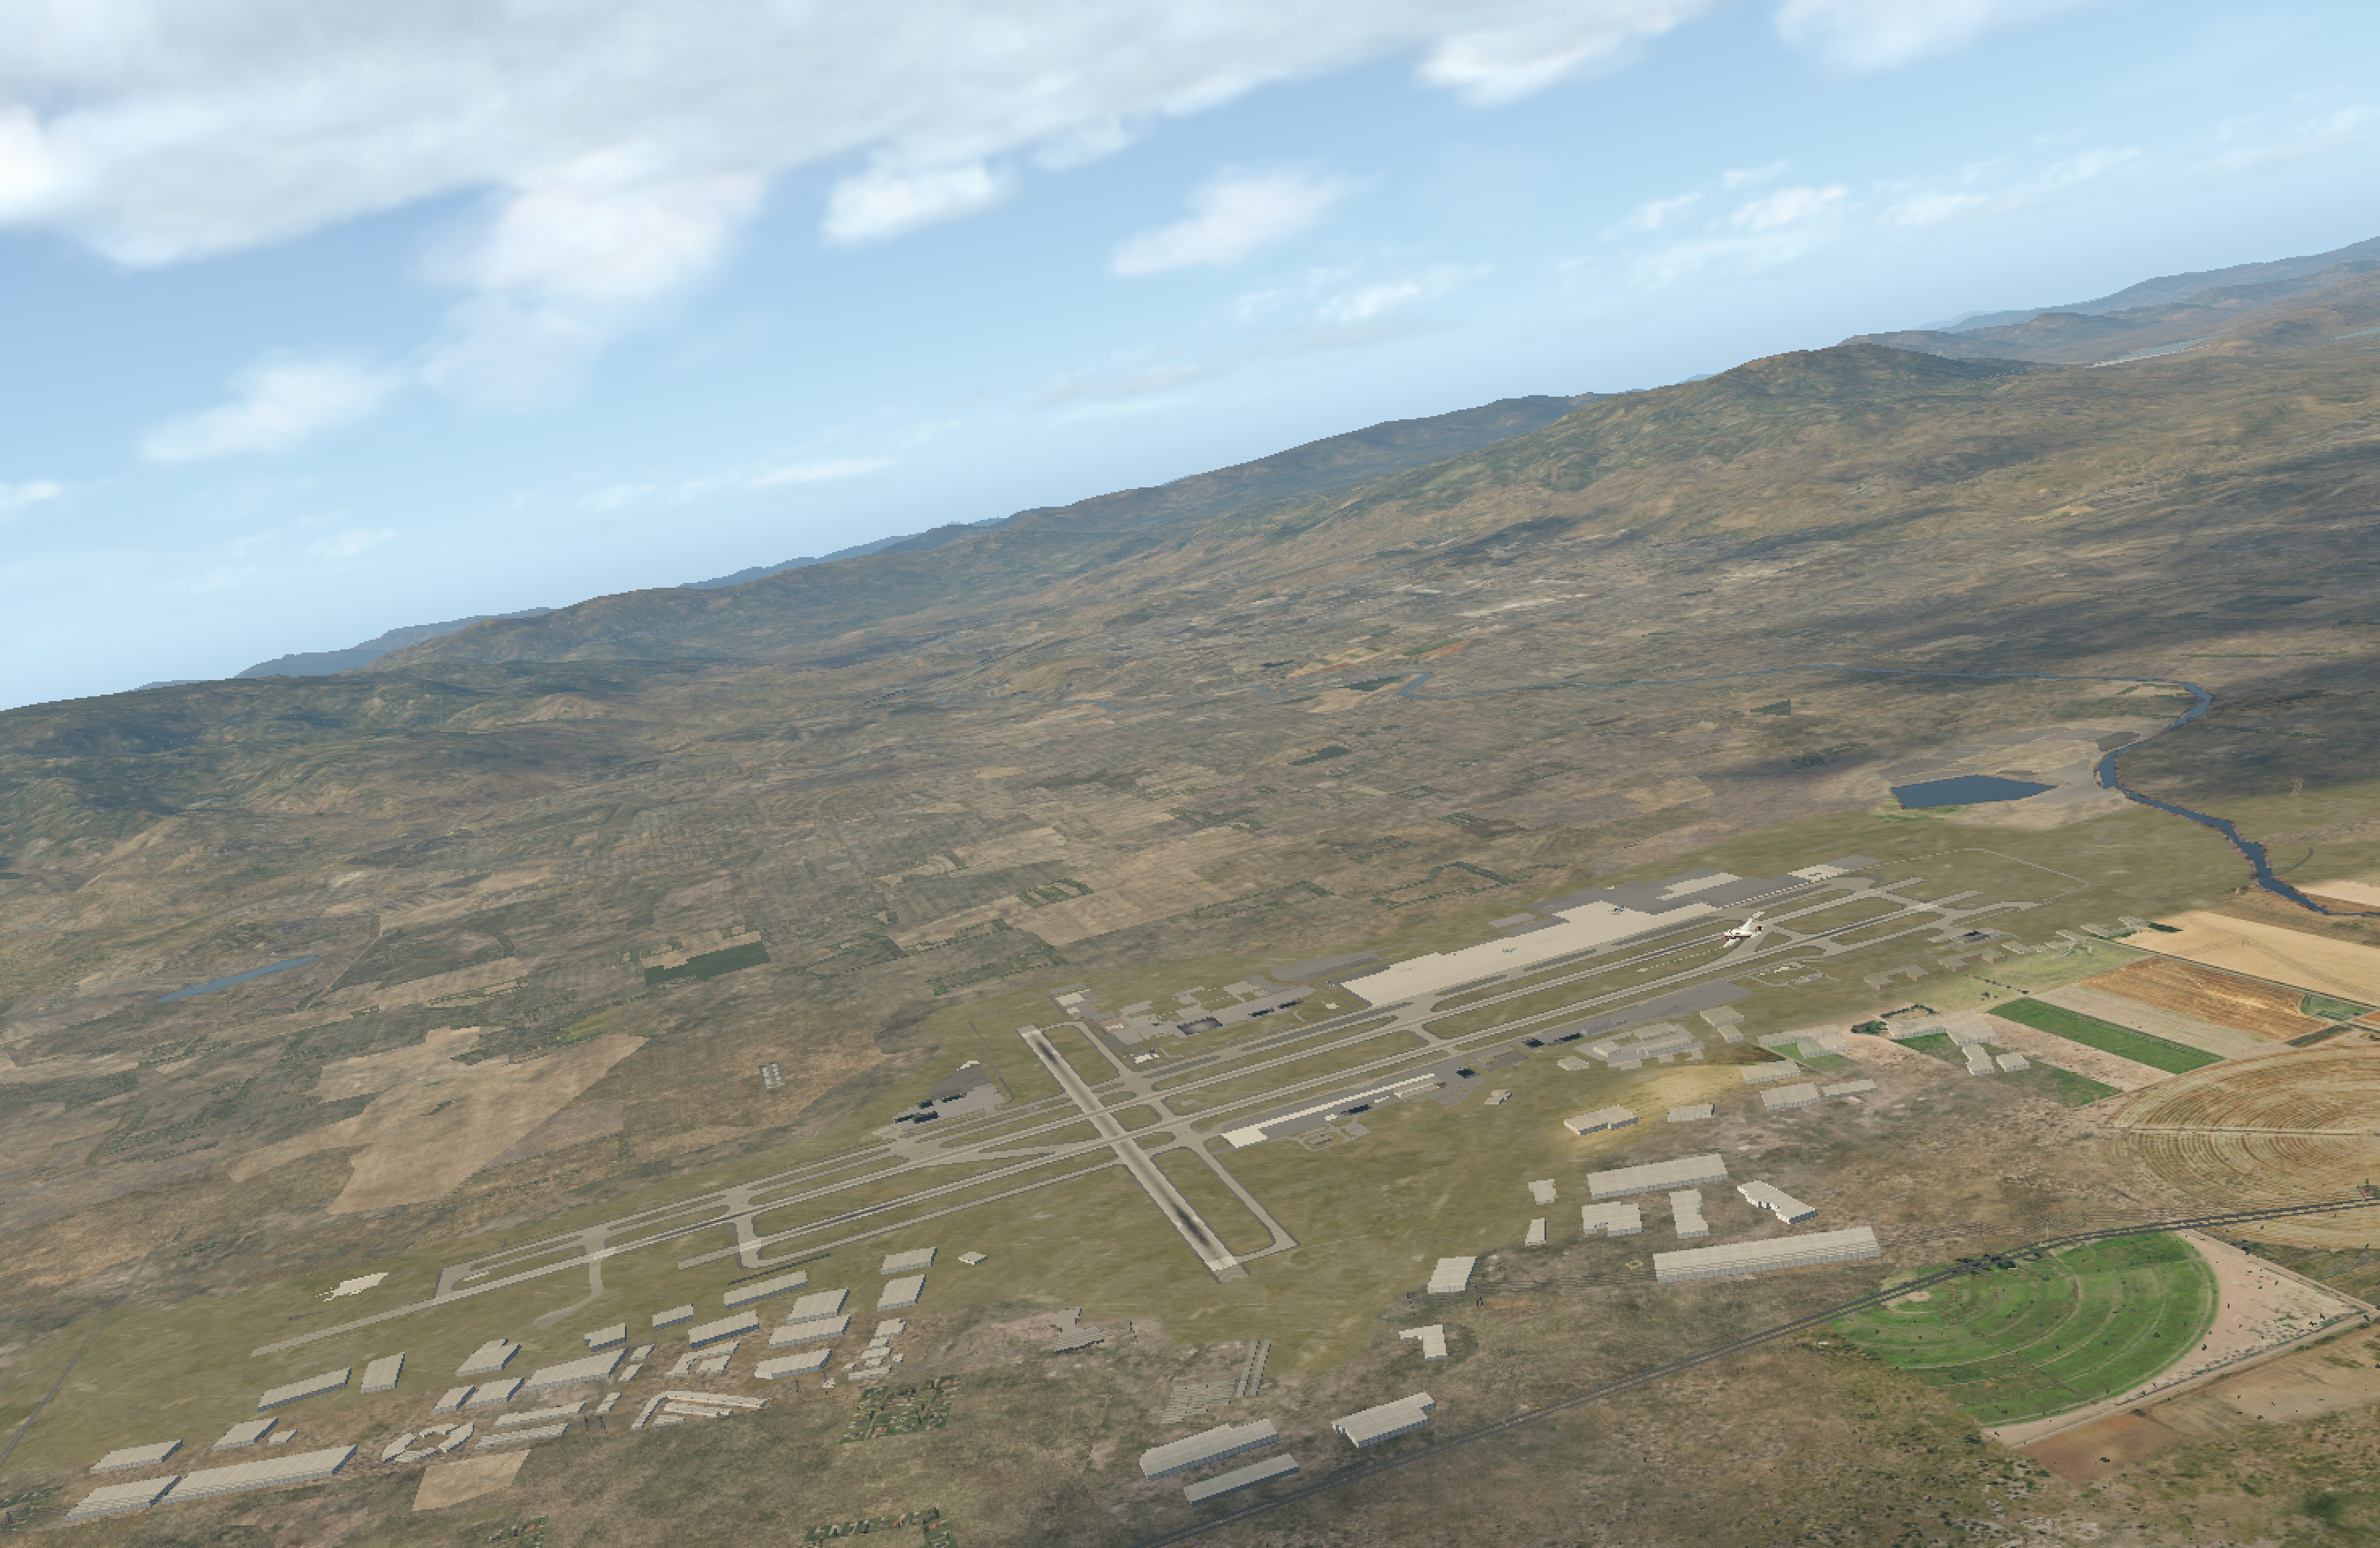aircraft: (1705, 925, 1768, 948)
